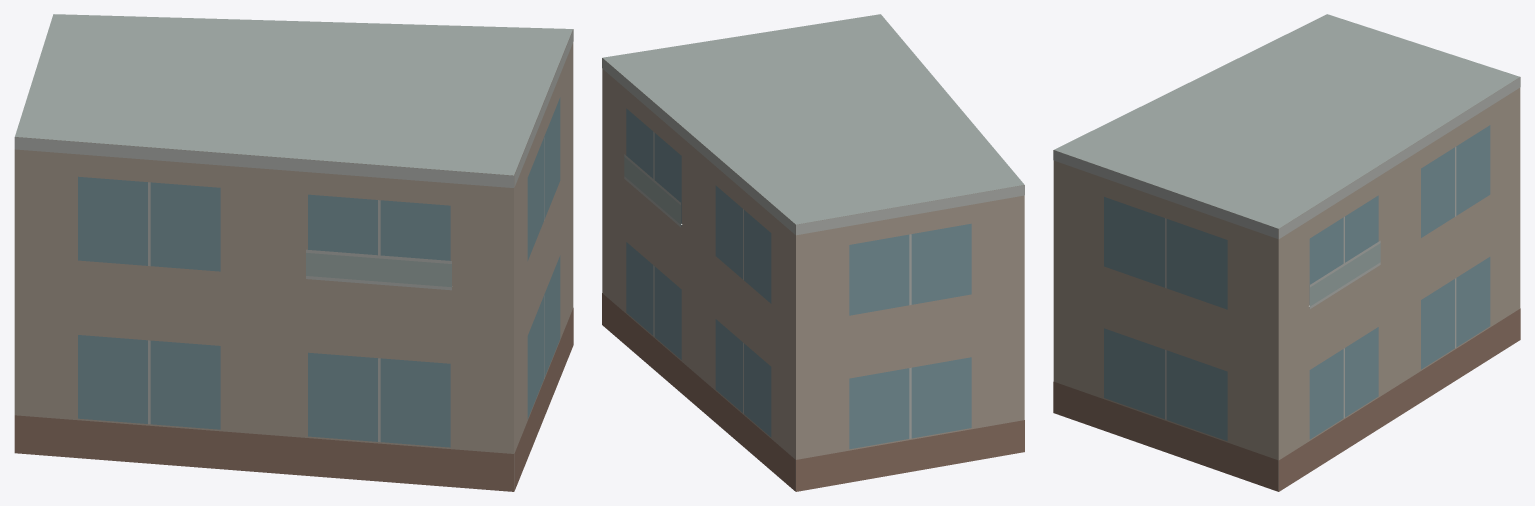
File: survey-upis-33015261.glb
The picture shows the model from 3 angles, left to right: view 1: azimuth 30°, elevation 25°; view 2: azimuth 150°, elevation 25°; view 3: azimuth 270°, elevation 25°; orthographic projection. The views are drawn at different scales.
Visible parts, largest first — view 1: survey-upis-33015261.tmp; view 2: survey-upis-33015261.tmp; view 3: survey-upis-33015261.tmp.
Boxes of the visible parts, bbox=[...] form: survey-upis-33015261.tmp: bbox=[14, 14, 573, 491]; survey-upis-33015261.tmp: bbox=[602, 14, 1024, 491]; survey-upis-33015261.tmp: bbox=[1053, 14, 1520, 491].
Size of the model in its own units: 10.69 by 6.1 by 9.82.
